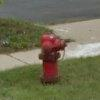Hydrant: (33, 26, 69, 85)
